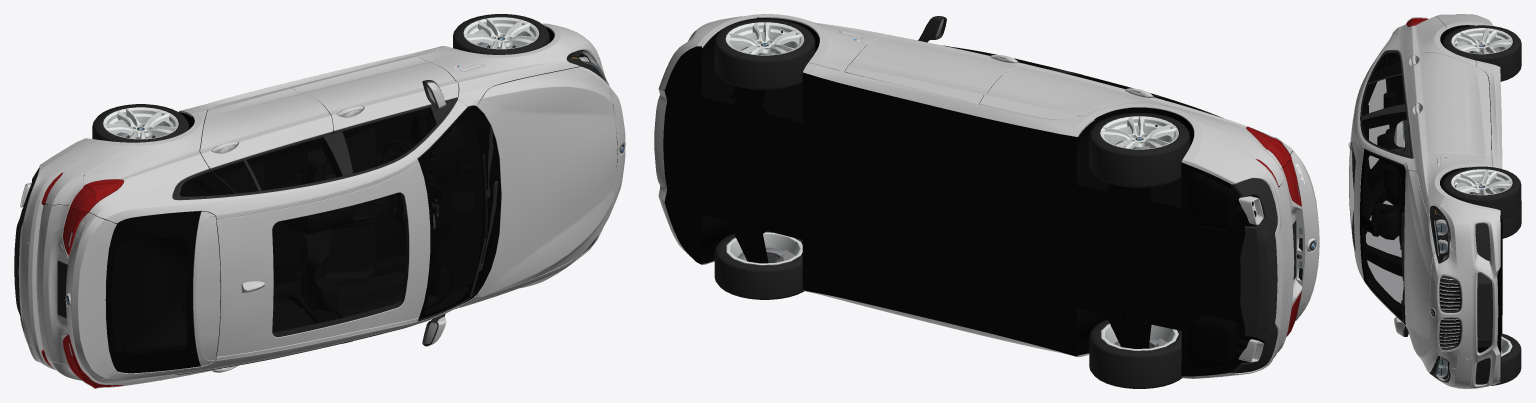
3 views of the same model, side by side, from view 1: azimuth 30°, elevation 25°; view 2: azimuth 150°, elevation 25°; view 3: azimuth 270°, elevation 25° (orthographic). The views are drawn at different scales.
Visible parts, largest first — view 1: body_mesh, wheel_FL_mesh, wheel_RL_mesh; view 2: body_mesh, wheel_RL_mesh, wheel_FL_mesh, wheel_RR_mesh, wheel_FR_mesh; view 3: body_mesh, wheel_FL_mesh, wheel_RL_mesh, wheel_FR_mesh, wheel_RR_mesh.
Part boxes in pixels (box(x1,y1,x2,y2)): body_mesh: box(14, 23, 625, 388); wheel_FL_mesh: box(453, 14, 549, 54); wheel_RL_mesh: box(92, 104, 189, 142); body_mesh: box(654, 14, 1319, 378); wheel_RL_mesh: box(1089, 113, 1189, 187); wheel_FL_mesh: box(714, 19, 815, 89); wheel_RR_mesh: box(1089, 319, 1182, 388); wheel_FR_mesh: box(714, 231, 804, 299); body_mesh: box(1348, 14, 1502, 388); wheel_FL_mesh: box(1442, 166, 1521, 219); wheel_RL_mesh: box(1442, 25, 1521, 81); wheel_FR_mesh: box(1491, 333, 1521, 385); wheel_RR_mesh: box(1502, 201, 1521, 238).
Bounding box in the file's own units: 5 × 2.15 × 1.56.
20 materials, 5 textured.
